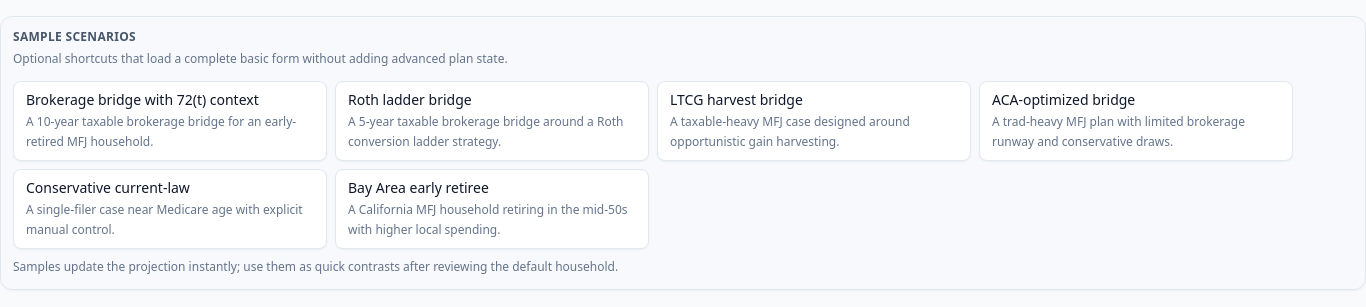
StarterTemplateChooser › loads Brokerage bridge with 72(t) context into the scenario store and confirms the selection
The width and height of the screenshot is (1366, 307).
Click the button that starts with "Brokerage bridge with 72(t) context": (170, 121) left=13, top=81, right=327, bottom=161
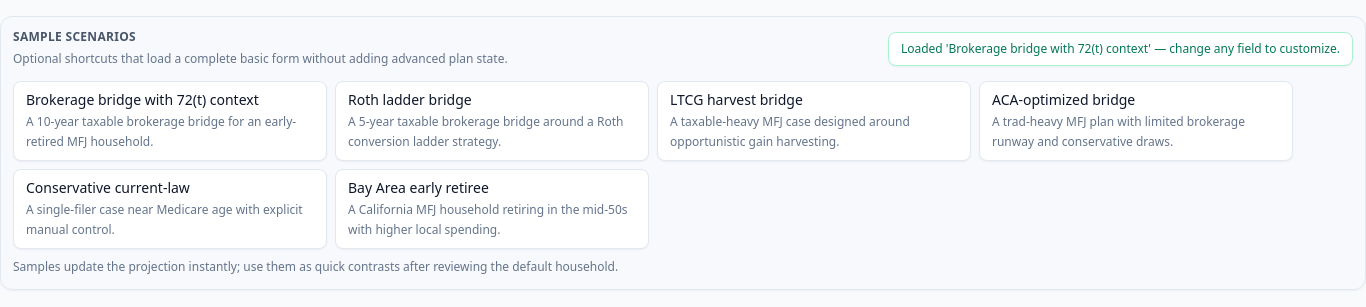
expect the message shows "change any field to customize": met, box left=1148, top=40, right=1340, bottom=57
